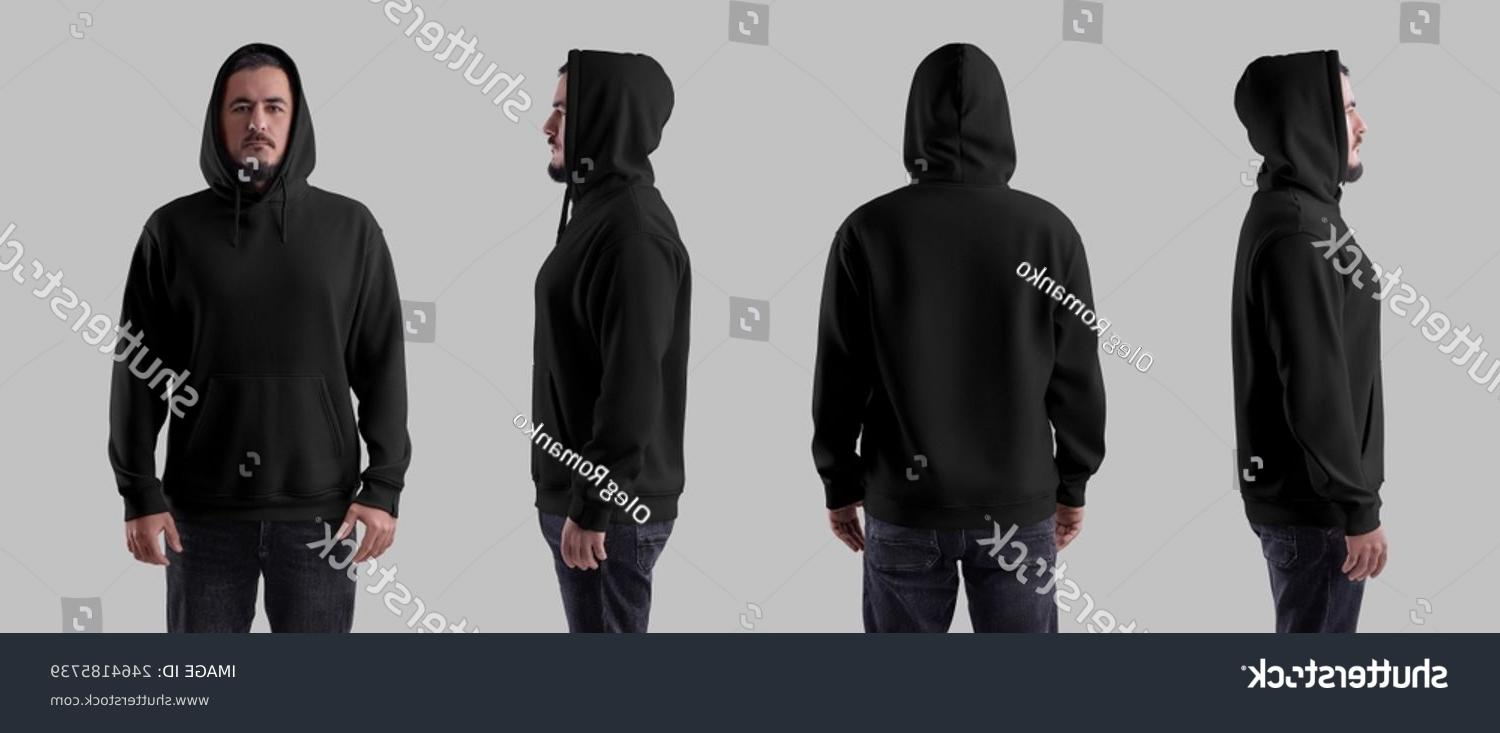sweater: (105, 38, 416, 532), (809, 41, 1110, 510), (1231, 49, 1395, 535), (530, 42, 693, 525)
trousers: (860, 502, 1060, 635), (162, 518, 361, 638), (534, 511, 676, 632), (1250, 515, 1376, 638)
